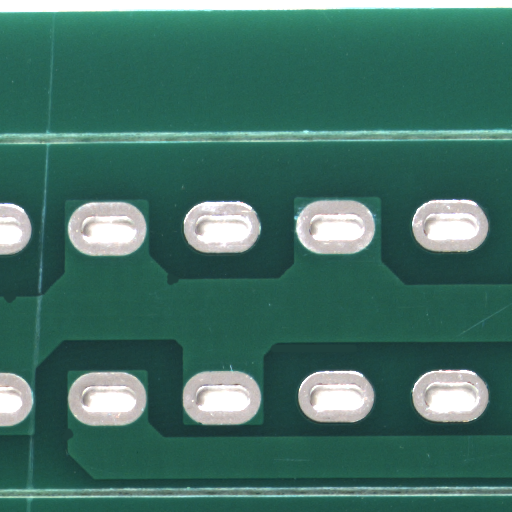Mouse_bite: (172, 279, 186, 292), (70, 436, 77, 450), (10, 299, 23, 306)
